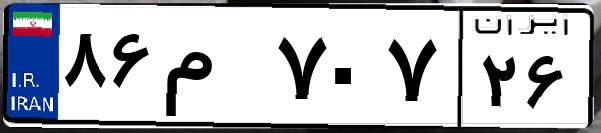0: (330, 28, 385, 110)
2: (475, 38, 525, 113)
6: (525, 38, 570, 115), (110, 28, 158, 98)
7: (270, 28, 330, 110), (385, 28, 445, 110)
8: (57, 26, 110, 100)
م: (158, 20, 270, 120)
